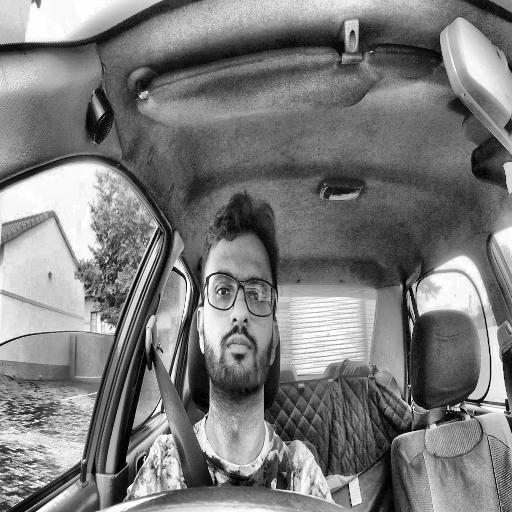awake: (197, 193, 279, 401)
